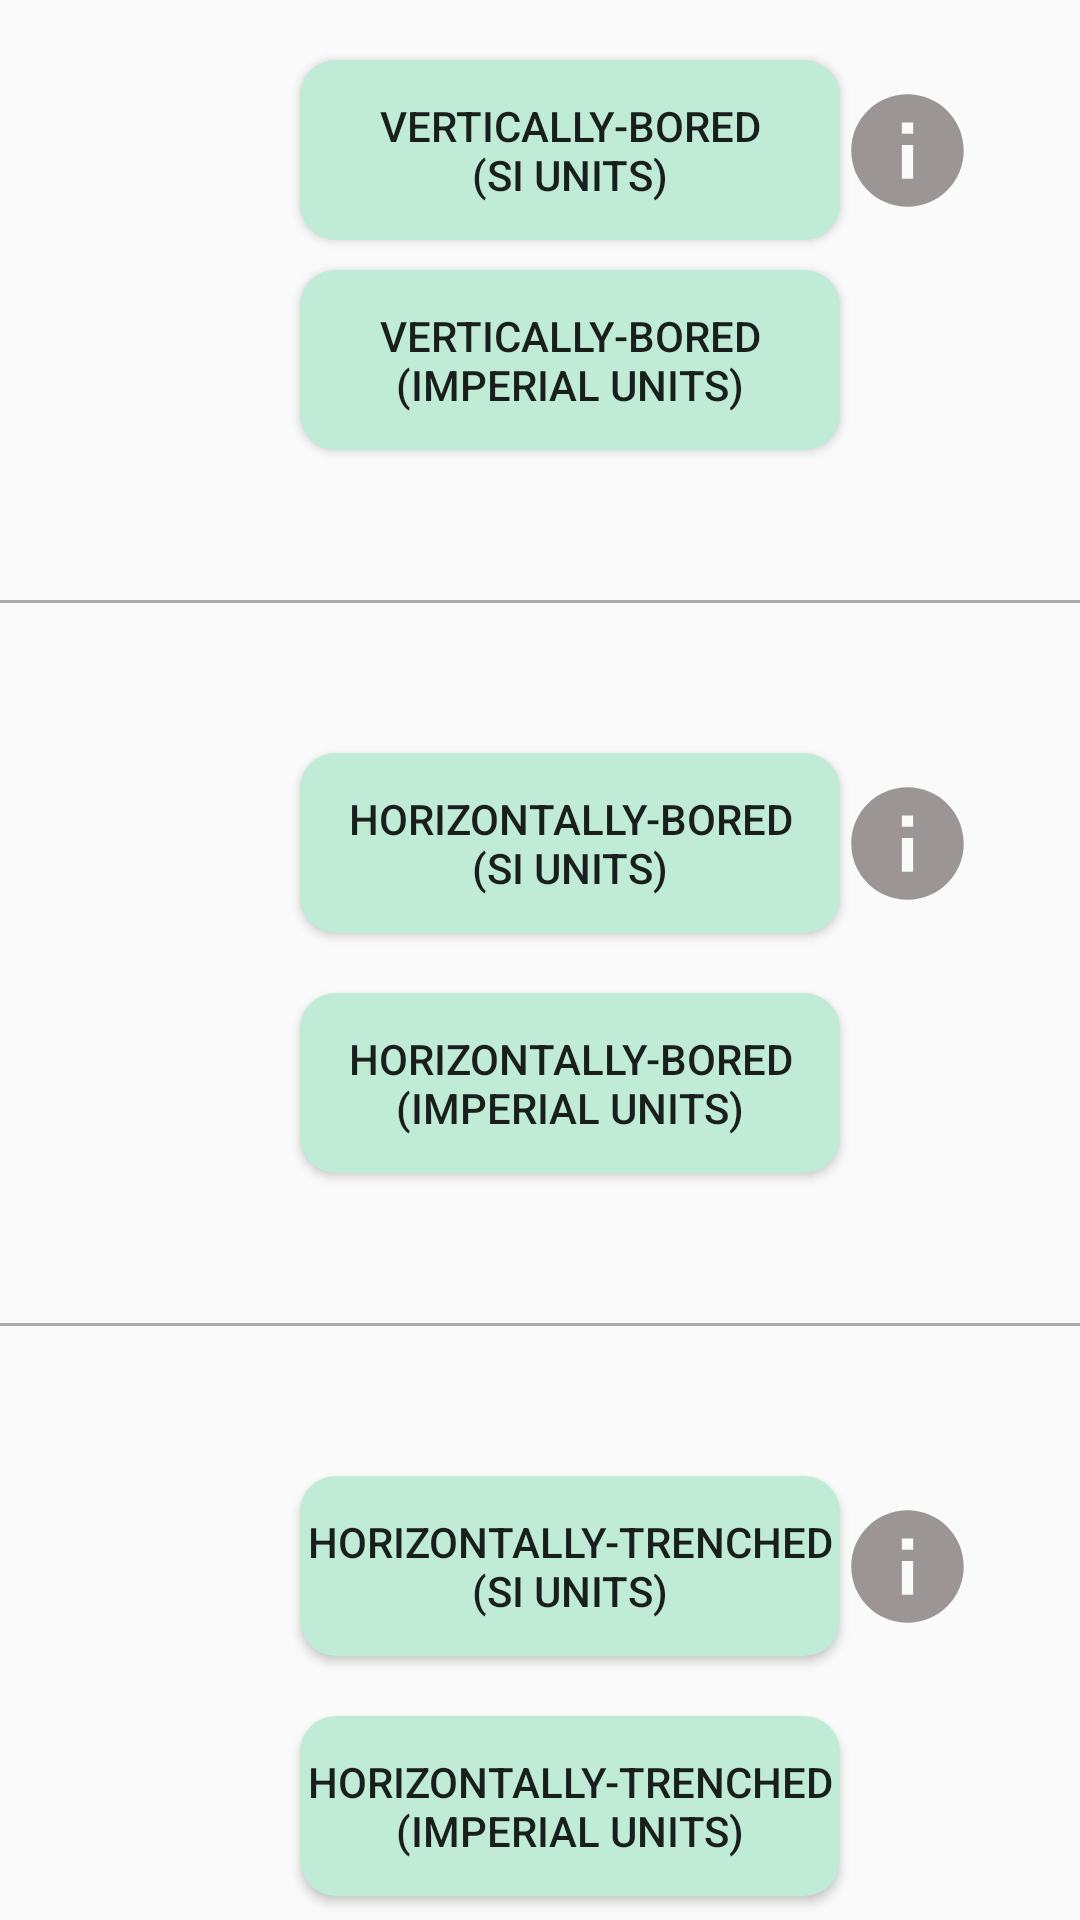

Icon click points for this 1080×1920 phone screenshot, format [x,y]:
infomation: [907,150], [907,843], [907,1566]
